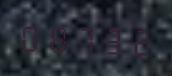eight: (45, 18, 71, 55)
seven: (72, 19, 98, 56)
three: (99, 20, 125, 57)
two: (126, 21, 152, 58)
zero: (18, 17, 44, 54)
